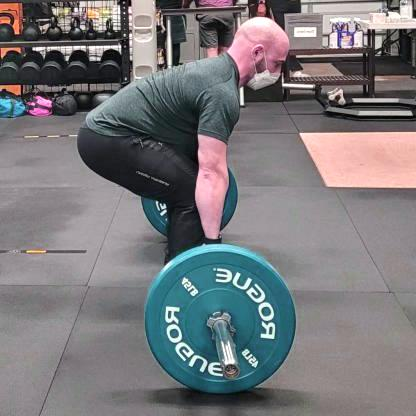Barbell: (217, 360, 238, 384)
